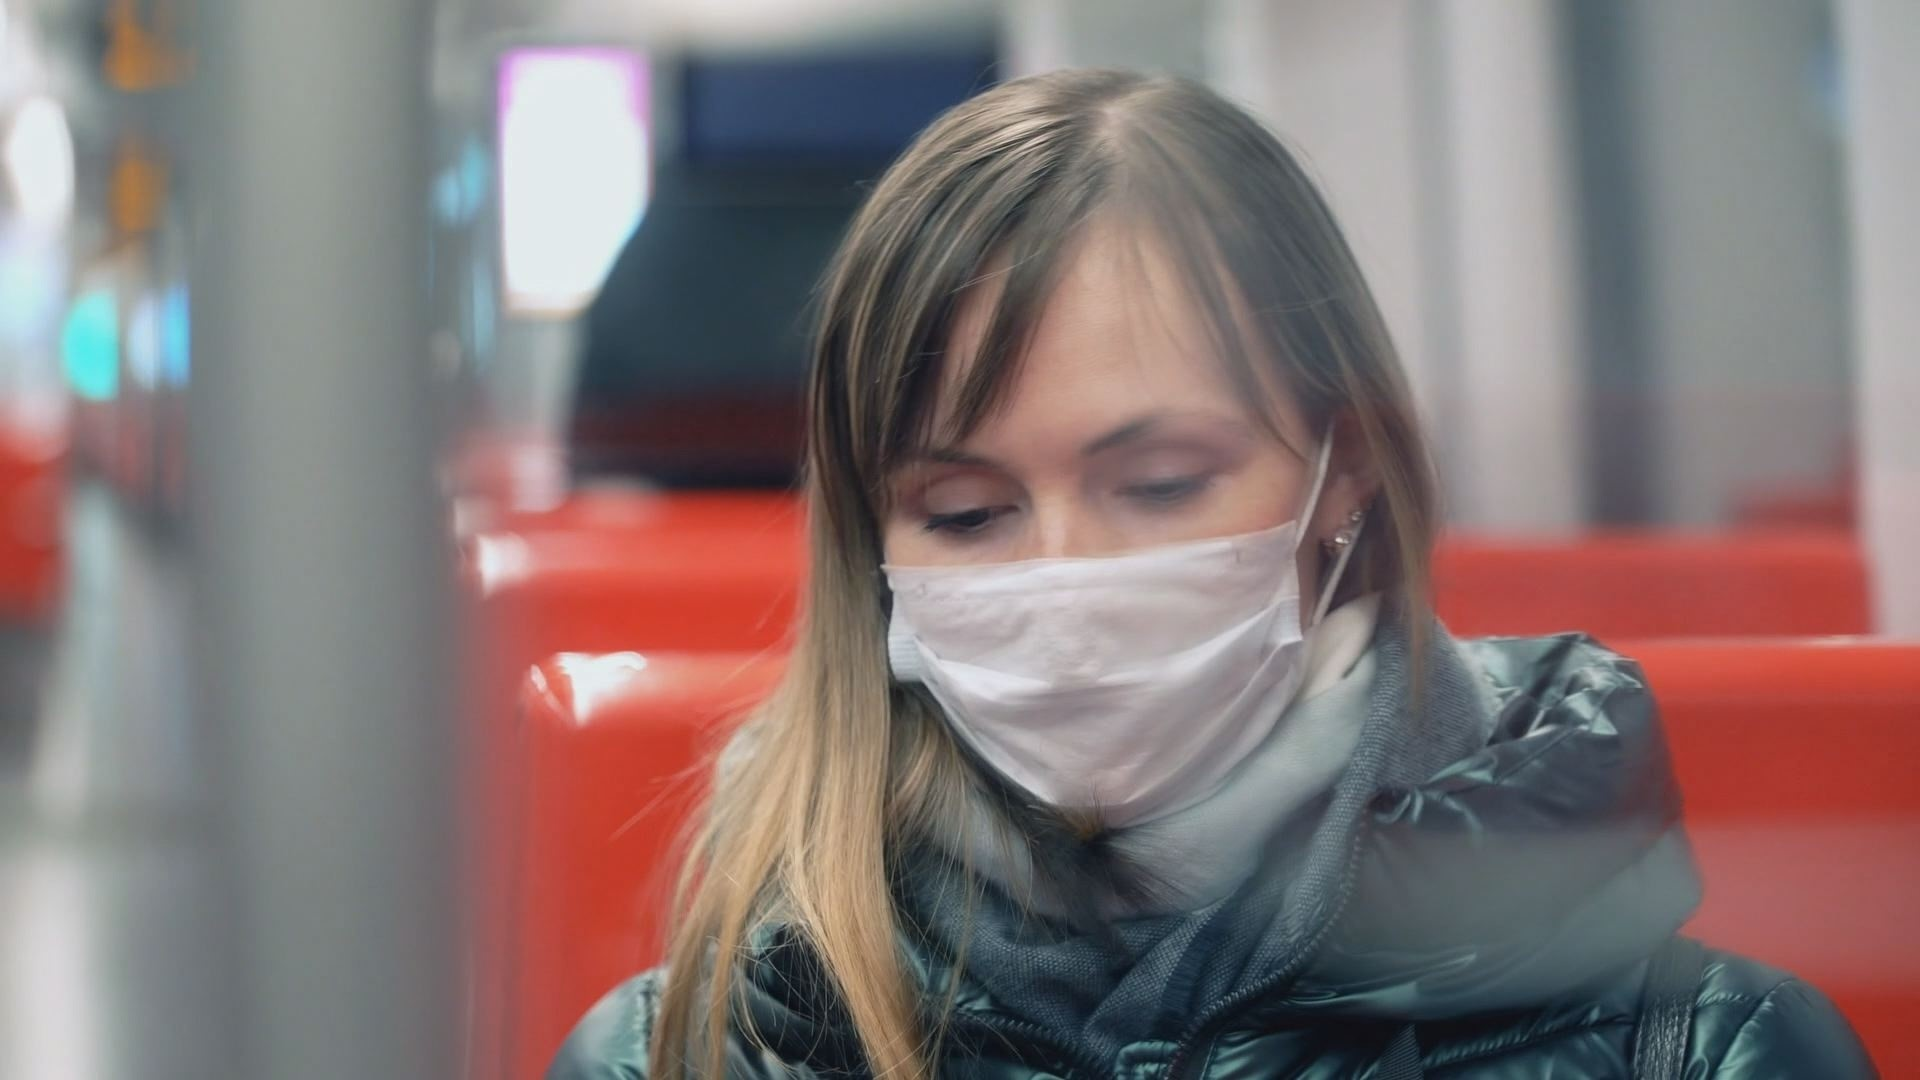face_with_mask: (845, 142, 1395, 872)
